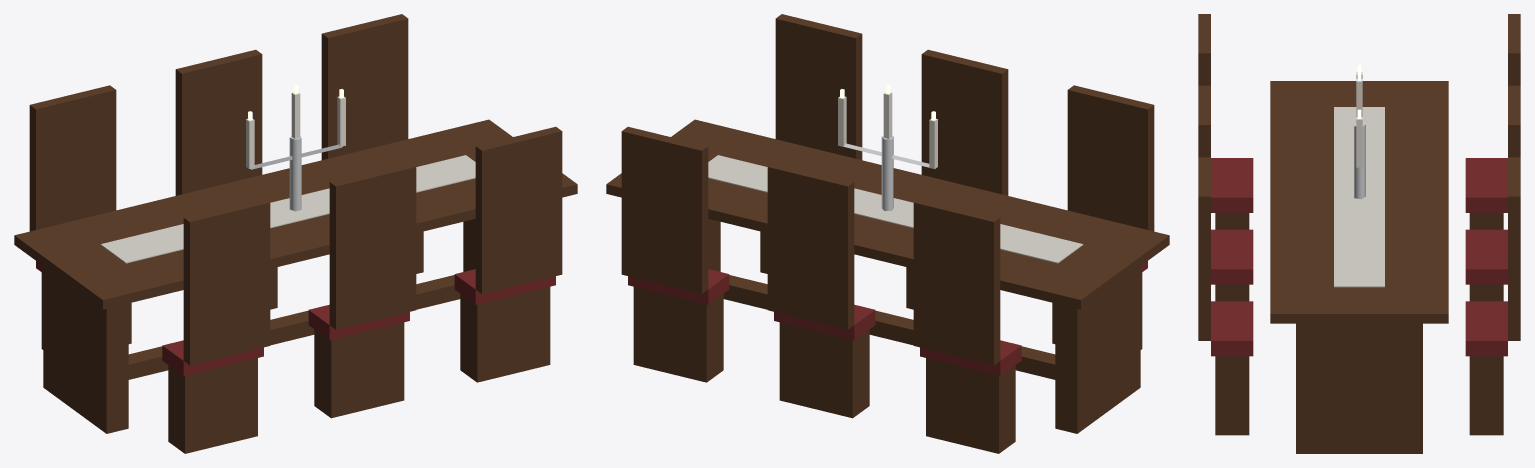
The model's file is dining_long.glb.
3 views of the same model, side by side, from view 1: azimuth 30°, elevation 25°; view 2: azimuth 150°, elevation 25°; view 3: azimuth 270°, elevation 25° (orthographic).
Visible parts, largest first — view 1: dining_long; view 2: dining_long; view 3: dining_long.
Part boxes in pixels (<box>): dining_long: <box>14,14,577,453</box>; dining_long: <box>606,14,1169,453</box>; dining_long: <box>1198,14,1520,453</box>.
Bounding box in the file's own units: 2.6 × 1.42 × 1.52.
1 material, 1 textured.
